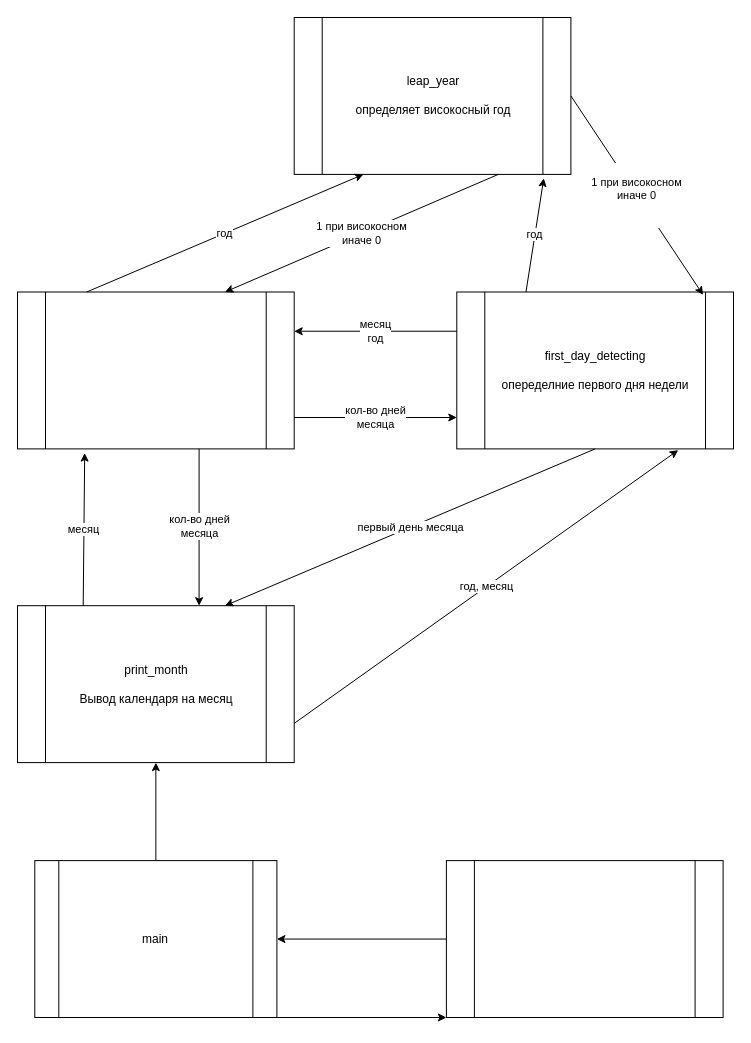
The diagram is 751 pixels wide and 1043 high, and some of its shapes have lost their labels. Each missing label, with the centre of its shape:
input_int ввод данных, проверка на корректность: the point at 584,939
month_days получение кол-ва дней в месяце: the point at 155,370
